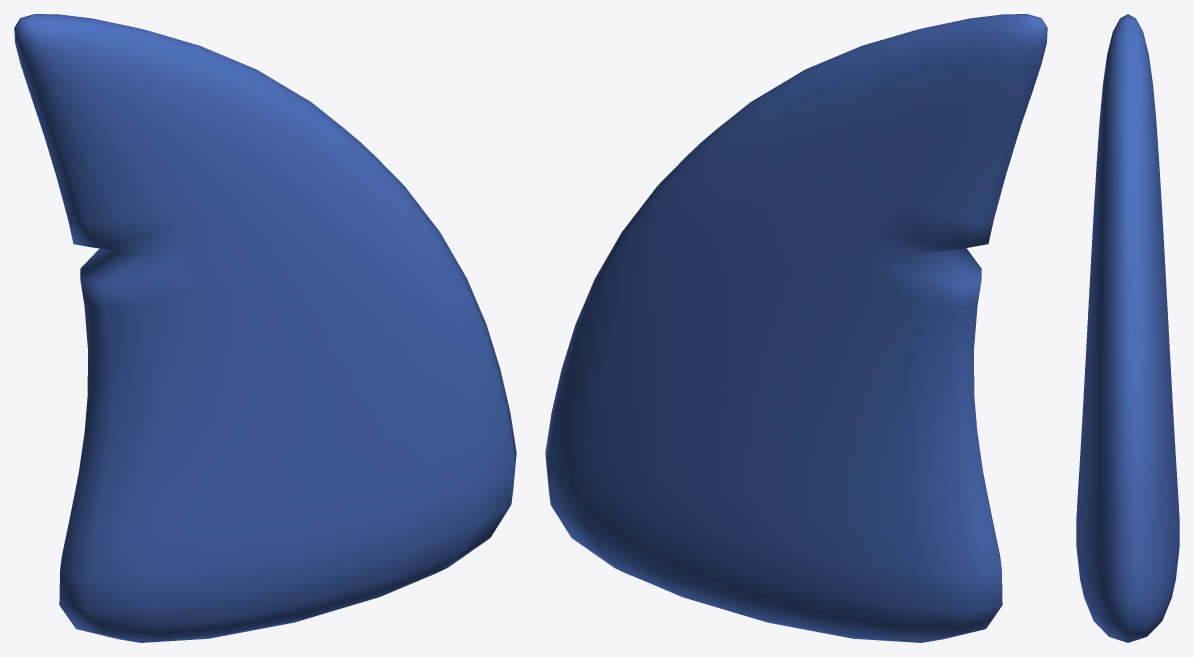
Rendered from SM_Obstacle_07.fbx.
The picture shows the model from 3 angles, left to right: view 1: azimuth 30°, elevation 25°; view 2: azimuth 150°, elevation 25°; view 3: azimuth 270°, elevation 25°; orthographic projection. The views are drawn at different scales.
Visible parts, largest first — view 1: Cube.026; view 2: Cube.026; view 3: Cube.026.
Boxes of the visible parts, x1,y1,x2,y2 form: Cube.026: (14, 14, 516, 642); Cube.026: (545, 14, 1047, 642); Cube.026: (1076, 14, 1179, 642).
Size of the model in its own units: 1.64 by 2.07 by 0.3974.
